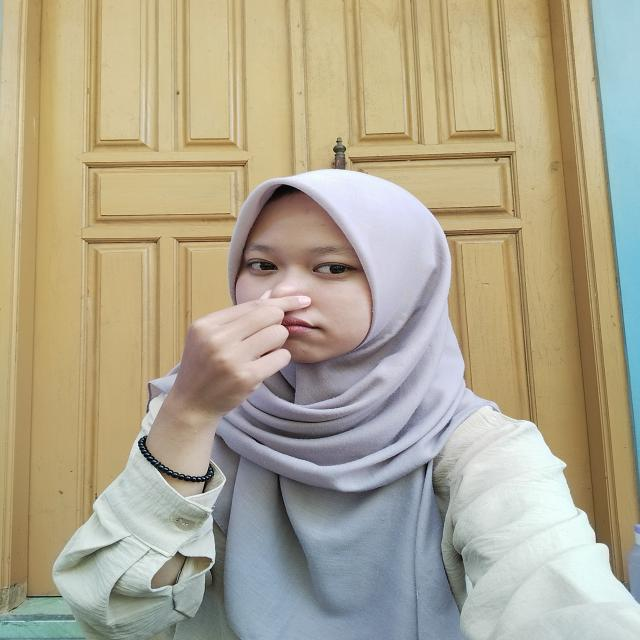bau: (157, 266, 315, 368)
